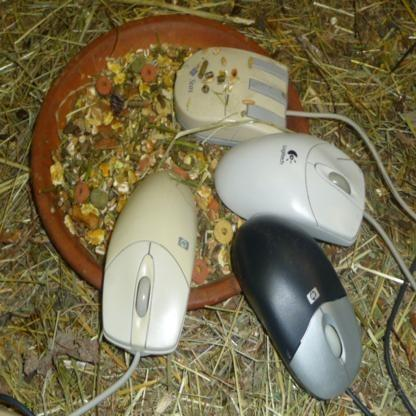not trash: (224, 204, 366, 390), (90, 164, 197, 354), (212, 128, 376, 244), (165, 43, 299, 140)
